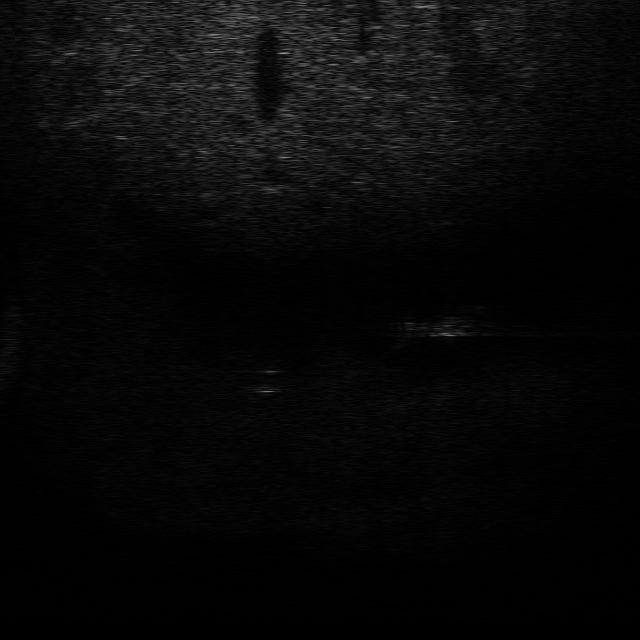ball: (241, 367, 291, 395)
human body: (392, 303, 502, 350)
